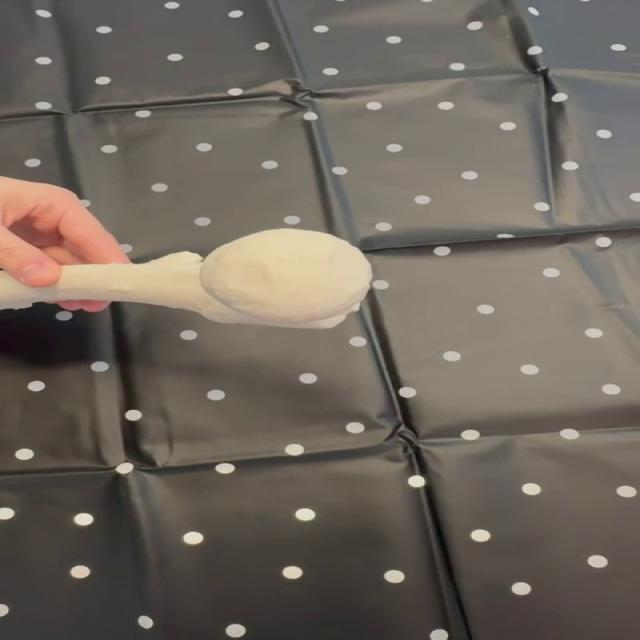bones: (0, 229, 371, 329)
